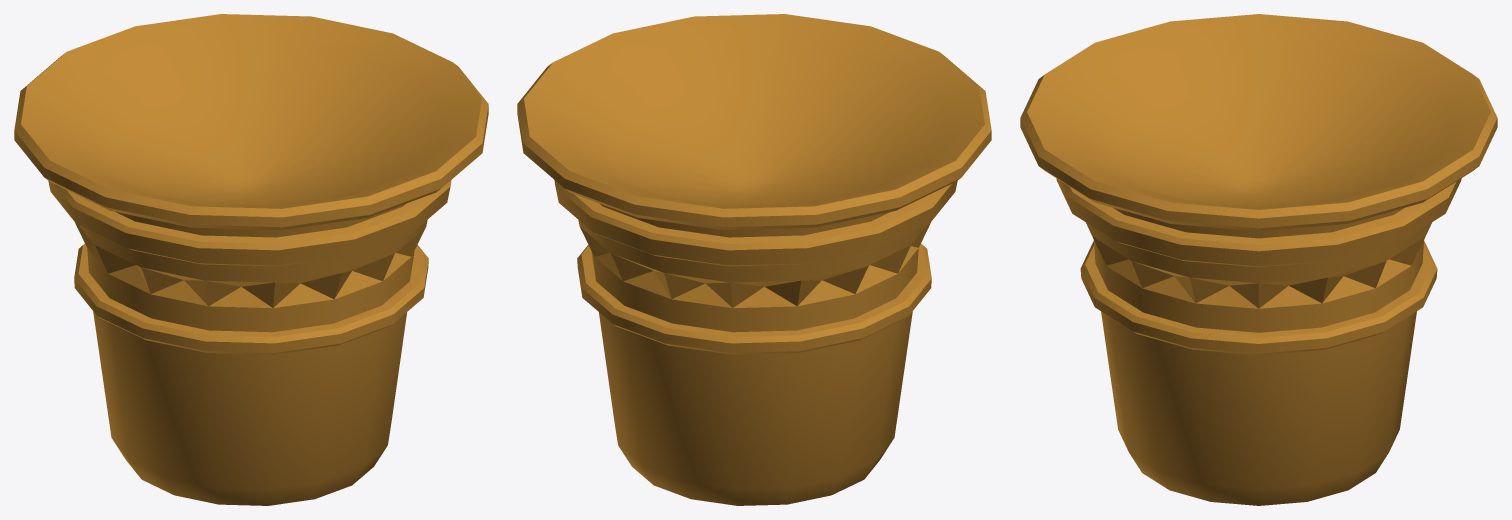
Rendered from WaffleCone.fbx.
3 views of the same model, side by side, from view 1: azimuth 30°, elevation 25°; view 2: azimuth 150°, elevation 25°; view 3: azimuth 270°, elevation 25° (orthographic).
Parts seen in each view (by area): view 1: WaffleCone; view 2: WaffleCone; view 3: WaffleCone.
Boxes of the visible parts, x1,y1,x2,y2 form: WaffleCone: (14, 14, 488, 505); WaffleCone: (517, 14, 991, 505); WaffleCone: (1020, 14, 1497, 505).
Bounding box in the file's own units: 40 × 32.37 × 40.
